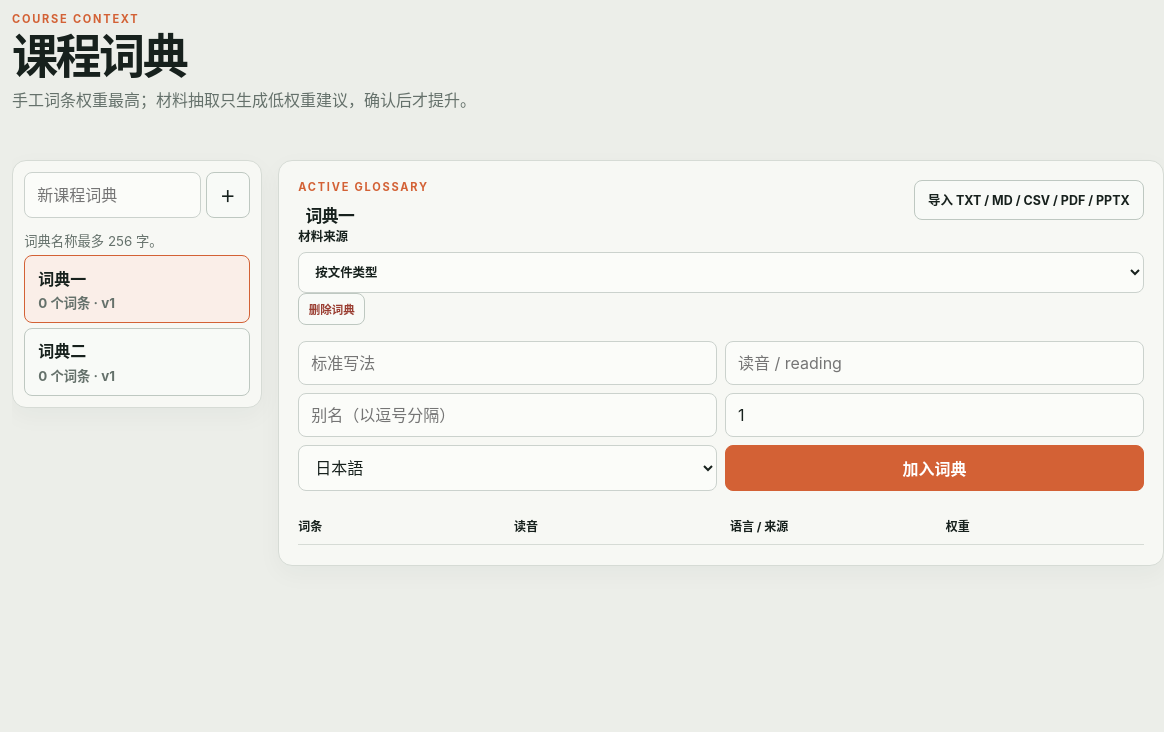
Test case: shows deletion errors and keeps the glossary available
The width and height of the screenshot is (1164, 732).
expect the heading "词典一" is shown: met, box [305, 206, 354, 226]
Click the button "删除词典". click: (332, 309)
box: [298, 293, 366, 325]
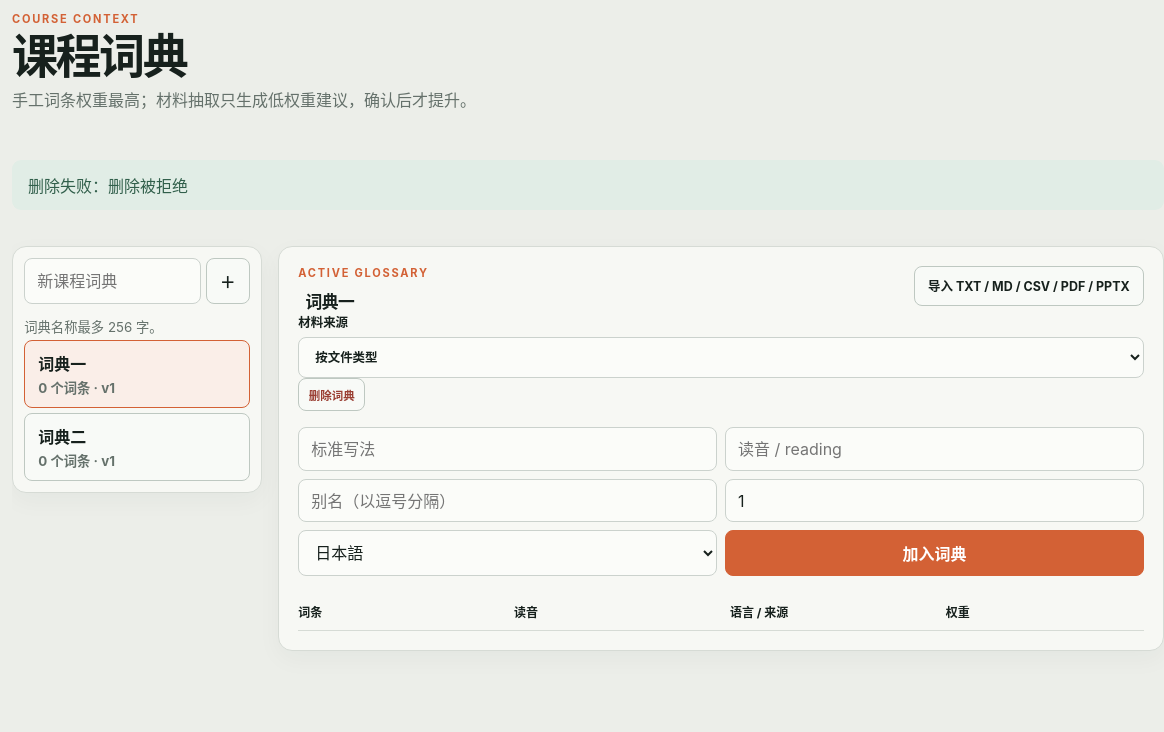
expect the heading "词典一" is shown: met, box [305, 292, 354, 312]
expect the message shows "删除被拒绝": met, box [108, 176, 188, 196]
